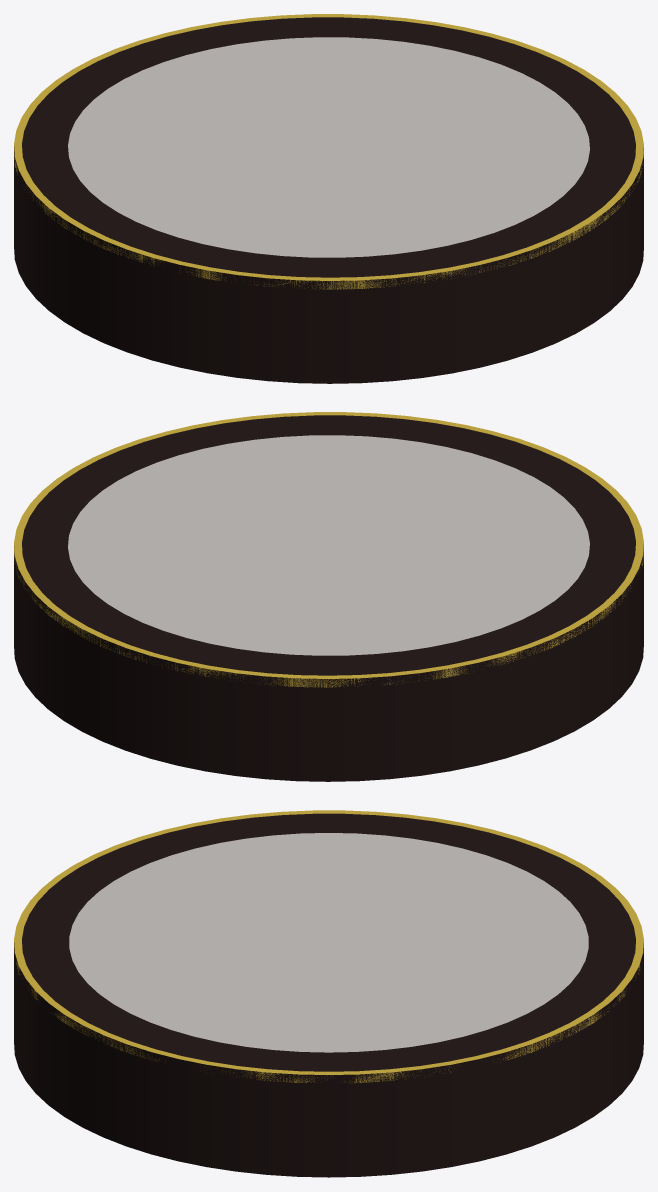
The picture shows the model from 3 angles, top to bottom: view 1: azimuth 30°, elevation 25°; view 2: azimuth 150°, elevation 25°; view 3: azimuth 270°, elevation 25°; orthographic projection.
Visible parts, largest first — view 1: disc, plain_top, rim; view 2: disc, plain_top, rim; view 3: disc, plain_top, rim.
Boxes of the visible parts, left/top/right/bottom form: disc: left=14, top=17, right=643, bottom=383; plain_top: left=68, top=37, right=589, bottom=257; rim: left=14, top=14, right=643, bottom=289; disc: left=14, top=415, right=643, bottom=781; plain_top: left=68, top=435, right=589, bottom=655; rim: left=14, top=412, right=643, bottom=687; disc: left=14, top=813, right=643, bottom=1177; plain_top: left=69, top=833, right=588, bottom=1052; rim: left=14, top=810, right=643, bottom=1083.
Size of the model in its own units: 0.0795 by 0.0143 by 0.08.
